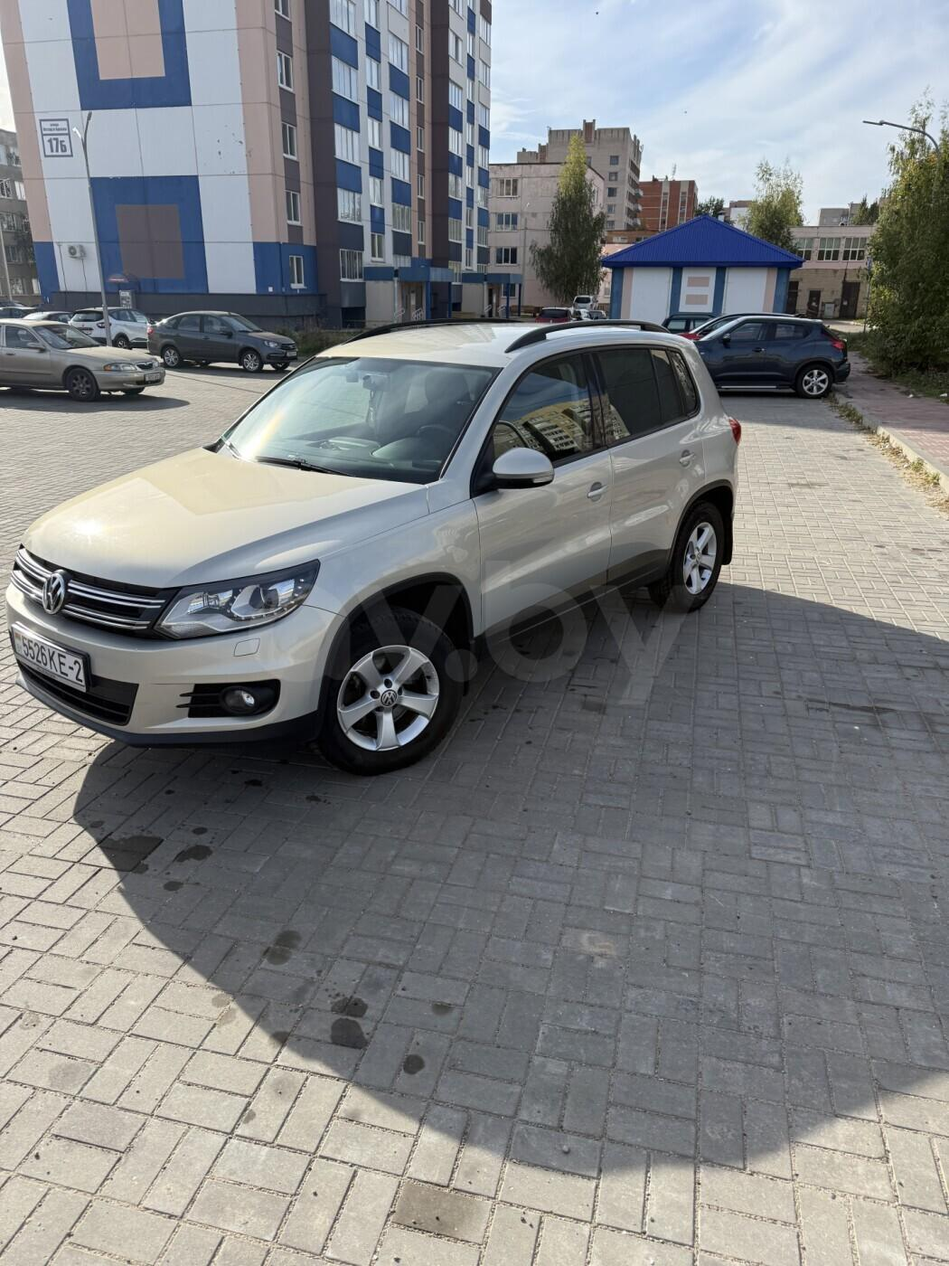Tiguan_2011-2018: (2, 322, 739, 770)
